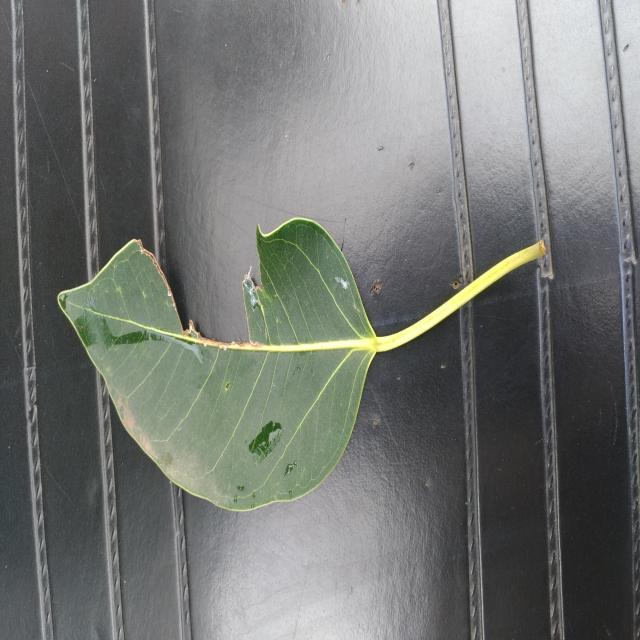defected camphor: (59, 218, 378, 511)
